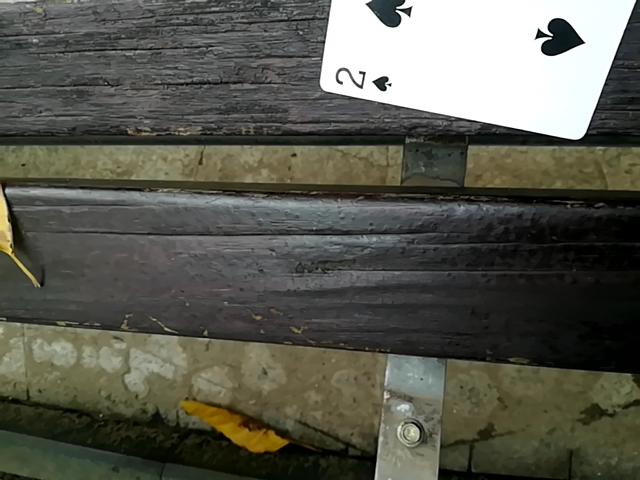ht 2: (321, 0, 640, 135)
